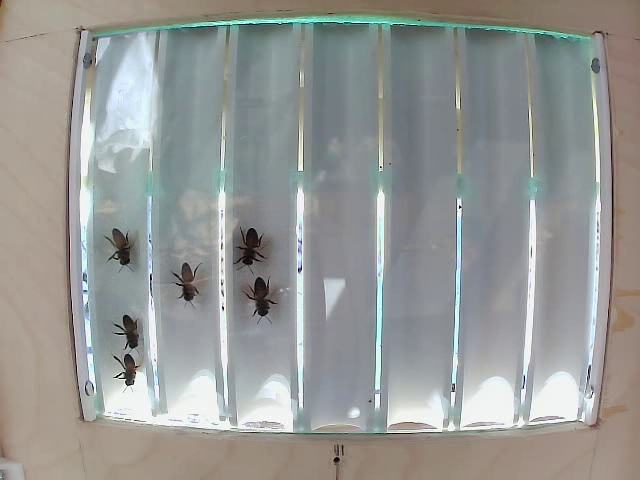bee: (99, 298, 155, 348), (241, 268, 284, 324), (106, 344, 141, 392), (171, 264, 215, 302), (108, 223, 137, 262), (240, 220, 264, 257)
